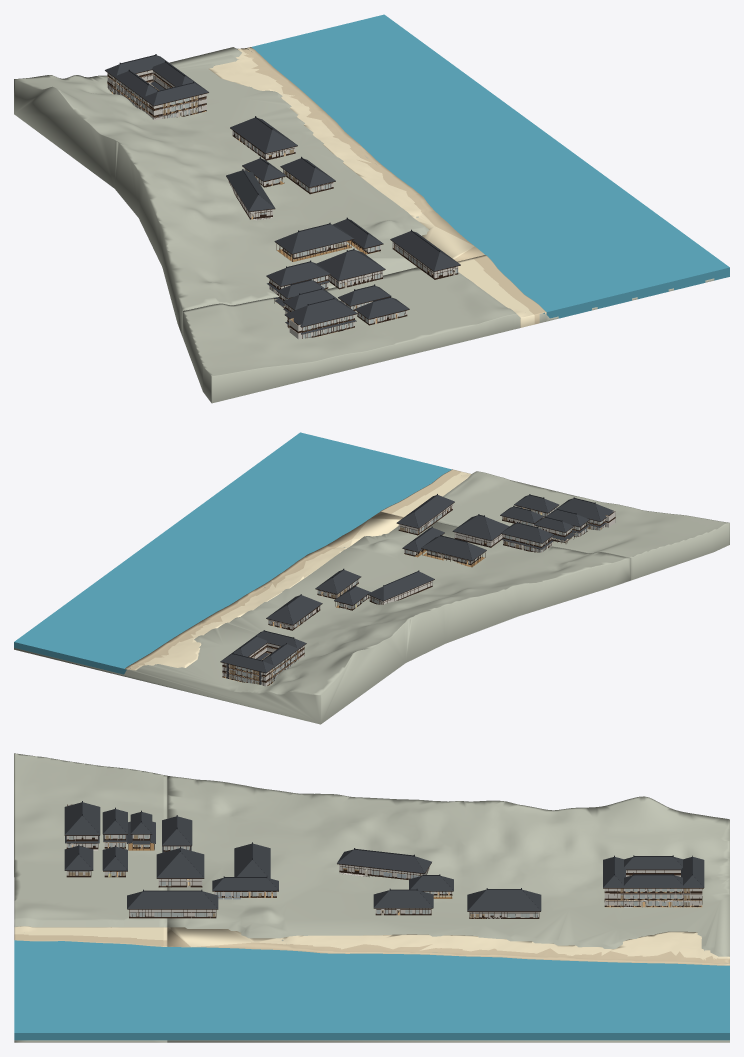
Rendered from longevity-sema.glb.
3 renders of one model, top to bottom at view 1: azimuth 30°, elevation 25°; view 2: azimuth 150°, elevation 25°; view 3: azimuth 270°, elevation 25°, orthographic. The views are drawn at different scales.
Parts seen in each view (by area): view 1: Deniz_Yuzeyi, Arazi_Zemin, Arazi_Zemin_Guney, Kumsal, J_8_Konaklama_roof_cati, Kumsal_Guney, J_1_Saglik_Taramasi_roof_cati, J_3a_Egitim_A_roof_cati, J_6_Beslenme_roof_cati, J_4a_Fitness_1_roof_cati, J_5a_Wellness_Havuz_roof_cati, J_4b_Fitness_2_roof_cati (+4 smaller); view 2: Deniz_Yuzeyi, Arazi_Zemin, Arazi_Zemin_Guney, Kumsal, J_8_Konaklama_roof_cati, Kumsal_Guney, J_3a_Egitim_A_roof_cati, J_6_Beslenme_roof_cati, J_4a_Fitness_1_roof_cati, J_5a_Wellness_Havuz_roof_cati, J_4b_Fitness_2_roof_cati, J_1_Saglik_Taramasi_roof_cati (+2 smaller); view 3: Arazi_Zemin, Deniz_Yuzeyi, Arazi_Zemin_Guney, Kumsal, J_8_Konaklama_roof_cati, Kumsal_Guney, J_4a_Fitness_1_roof_cati, J_6_Beslenme_roof_cati, J_4b_Fitness_2_roof_cati, J_5a_Wellness_Havuz_roof_cati, J_1_Saglik_Taramasi_roof_cati, J_3a_Egitim_A_roof_cati (+8 smaller).
Boxes of the visible parts, left/top/right/bottom form: Deniz_Yuzeyi: left=251, top=14, right=729, bottom=318; Arazi_Zemin: left=14, top=47, right=429, bottom=337; Arazi_Zemin_Guney: left=183, top=267, right=714, bottom=403; Kumsal: left=209, top=47, right=484, bottom=261; J_8_Konaklama_roof_cati: left=105, top=55, right=208, bottom=105; Kumsal_Guney: left=457, top=255, right=546, bottom=327; J_1_Saglik_Taramasi_roof_cati: left=284, top=299, right=357, bottom=334; J_3a_Egitim_A_roof_cati: left=274, top=224, right=353, bottom=253; J_6_Beslenme_roof_cati: left=230, top=117, right=297, bottom=153; J_4a_Fitness_1_roof_cati: left=390, top=231, right=460, bottom=271; J_5a_Wellness_Havuz_roof_cati: left=317, top=250, right=385, bottom=280; J_4b_Fitness_2_roof_cati: left=226, top=170, right=275, bottom=211; Deniz_Yuzeyi: left=14, top=432, right=451, bottom=674; Arazi_Zemin: left=14, top=522, right=630, bottom=724; Arazi_Zemin_Guney: left=437, top=471, right=729, bottom=580; Kumsal: left=125, top=511, right=403, bottom=670; J_8_Konaklama_roof_cati: left=220, top=631, right=306, bottom=672; Kumsal_Guney: left=380, top=469, right=471, bottom=517; J_3a_Egitim_A_roof_cati: left=421, top=536, right=486, bottom=560; J_6_Beslenme_roof_cati: left=266, top=595, right=322, bottom=624; J_4a_Fitness_1_roof_cati: left=397, top=495, right=454, bottom=528; J_5a_Wellness_Havuz_roof_cati: left=453, top=515, right=509, bottom=540; J_4b_Fitness_2_roof_cati: left=367, top=571, right=434, bottom=600; J_1_Saglik_Taramasi_roof_cati: left=554, top=498, right=614, bottom=527; Arazi_Zemin: left=167, top=775, right=729, bottom=1042; Deniz_Yuzeyi: left=14, top=940, right=729, bottom=1040; Arazi_Zemin_Guney: left=14, top=753, right=167, bottom=1042; Kumsal: left=167, top=927, right=729, bottom=965; J_8_Konaklama_roof_cati: left=603, top=857, right=704, bottom=887; Kumsal_Guney: left=14, top=926, right=167, bottom=946; J_4a_Fitness_1_roof_cati: left=127, top=891, right=218, bottom=909; J_6_Beslenme_roof_cati: left=467, top=889, right=541, bottom=911; J_4b_Fitness_2_roof_cati: left=337, top=849, right=431, bottom=873; J_5a_Wellness_Havuz_roof_cati: left=156, top=848, right=204, bottom=878; J_1_Saglik_Taramasi_roof_cati: left=64, top=802, right=100, bottom=843; J_3a_Egitim_A_roof_cati: left=234, top=843, right=270, bottom=878.
Size of the model in its own units: 357 by 37.49 by 412.
